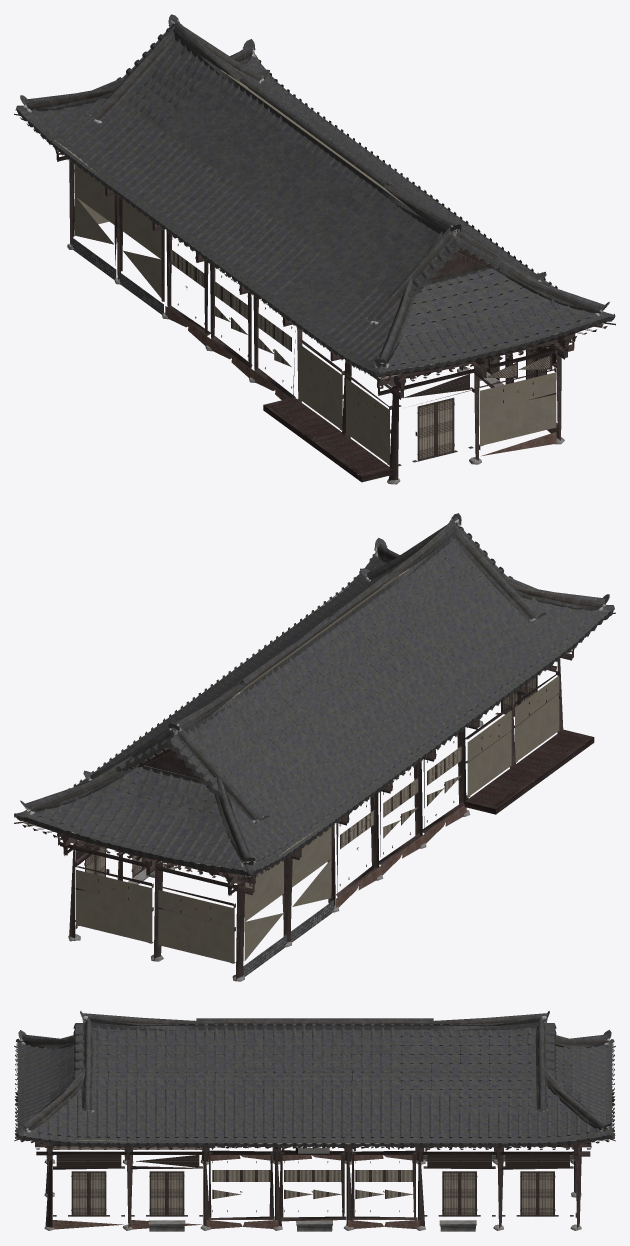
Rendered from giwa_hall.glb.
3 views of the same model, one above another, from view 1: azimuth 30°, elevation 25°; view 2: azimuth 150°, elevation 25°; view 3: azimuth 270°, elevation 25° (orthographic). The views are drawn at different scales.
Parts seen in each view (by area): view 1: Folk_Education_Hall, Folk_Education_Hall_Roof_Concrete_01_m_0.001, Folk_Education_Hall_Roof_Concrete_01_m_0.002, Folk_Education_Hall_Roof_Concrete_01_m_0.003, Folk_Education_Hall_Roof_Concrete_01_m_0.004, Folk_Education_Hall_Roof_Concrete_01_m_0.005; view 2: Folk_Education_Hall, Folk_Education_Hall_Roof_Concrete_01_m_0.003, Folk_Education_Hall_Roof_Concrete_01_m_0.001, Folk_Education_Hall_Roof_Concrete_01_m_0.002, Folk_Education_Hall_Roof_Concrete_01_m_0.004, Folk_Education_Hall_Roof_Concrete_01_m_0.005; view 3: Folk_Education_Hall, Folk_Education_Hall_Roof_Concrete_01_m_0.005, Folk_Education_Hall_Roof_Concrete_01_m_0.004, Folk_Education_Hall_Roof_Concrete_01_m_0.002, Folk_Education_Hall_Roof_Concrete_01_m_0.001, Folk_Education_Hall_Roof_Concrete_01_m_0.003.
Boxes of the visible parts, box(x1,y1,x2,y2) form: Folk_Education_Hall: box(14, 14, 615, 484); Folk_Education_Hall_Roof_Concrete_01_m_0.001: box(169, 81, 381, 302); Folk_Education_Hall_Roof_Concrete_01_m_0.002: box(16, 32, 613, 379); Folk_Education_Hall_Roof_Concrete_01_m_0.003: box(15, 25, 615, 376); Folk_Education_Hall_Roof_Concrete_01_m_0.004: box(26, 39, 549, 370); Folk_Education_Hall_Roof_Concrete_01_m_0.005: box(288, 116, 486, 238); Folk_Education_Hall: box(14, 513, 615, 981); Folk_Education_Hall_Roof_Concrete_01_m_0.003: box(14, 524, 614, 874); Folk_Education_Hall_Roof_Concrete_01_m_0.001: box(109, 587, 499, 773); Folk_Education_Hall_Roof_Concrete_01_m_0.002: box(15, 531, 613, 876); Folk_Education_Hall_Roof_Concrete_01_m_0.004: box(187, 559, 603, 867); Folk_Education_Hall_Roof_Concrete_01_m_0.005: box(156, 596, 367, 728); Folk_Education_Hall: box(14, 1011, 615, 1231); Folk_Education_Hall_Roof_Concrete_01_m_0.005: box(215, 1027, 394, 1141); Folk_Education_Hall_Roof_Concrete_01_m_0.004: box(38, 1025, 500, 1141); Folk_Education_Hall_Roof_Concrete_01_m_0.002: box(16, 1022, 613, 1147); Folk_Education_Hall_Roof_Concrete_01_m_0.001: box(196, 1023, 470, 1141); Folk_Education_Hall_Roof_Concrete_01_m_0.003: box(15, 1019, 615, 1137).
Size of the model in its own units: 10.01 by 8.97 by 26.42.
13 materials, 13 textured.
